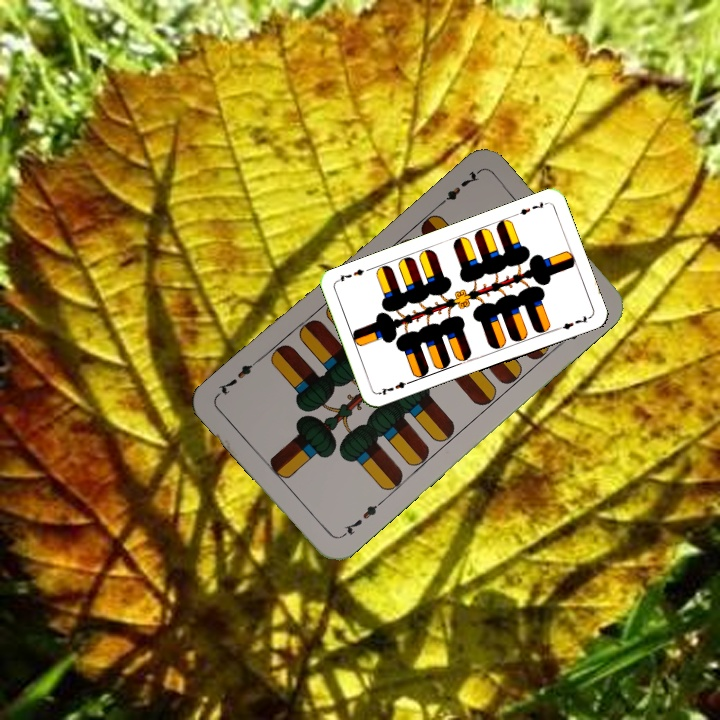E7: (432, 167, 482, 211), (336, 497, 385, 541), (376, 376, 415, 398), (511, 197, 550, 218)
